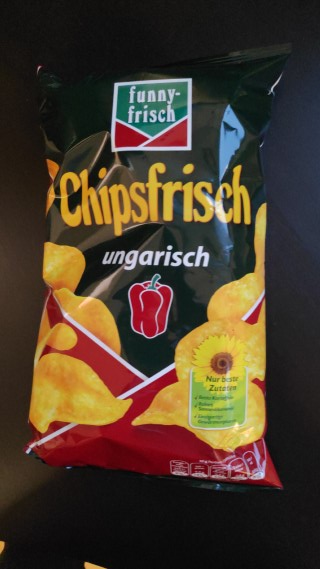chipsfrisch: (17, 40, 293, 496)
